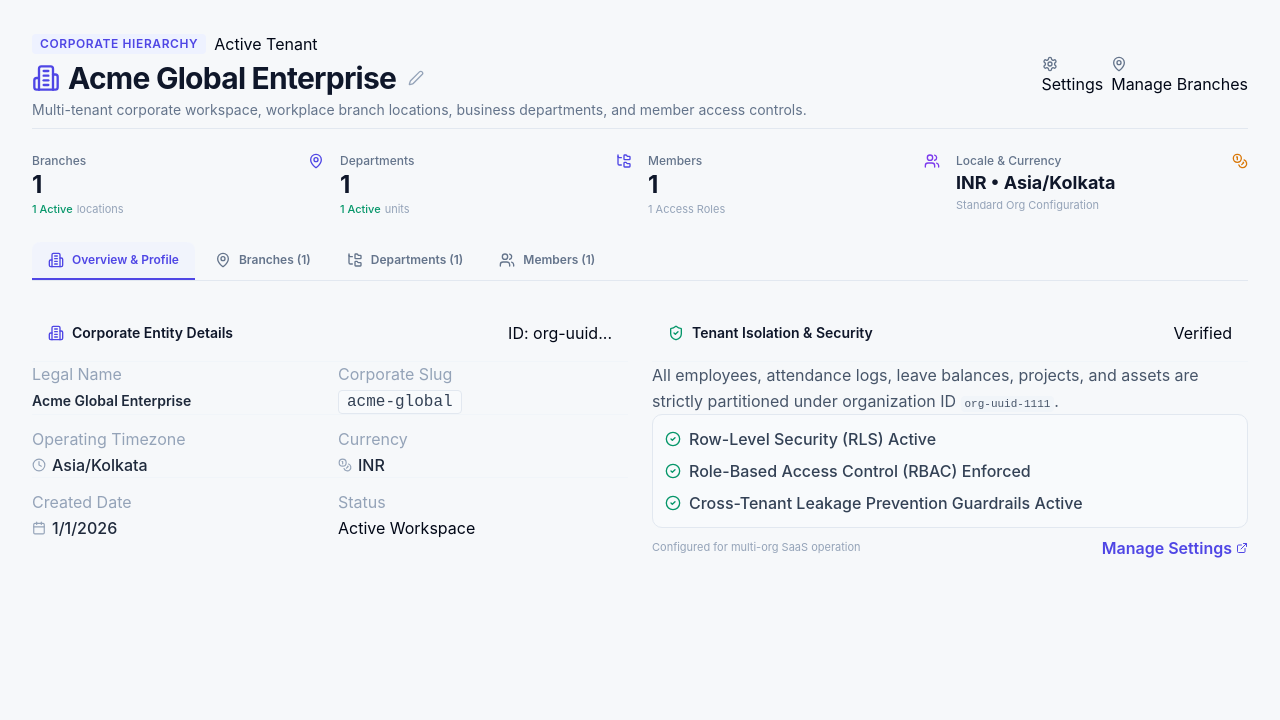
Test: OrganizationPage Component › allows switching tabs to Branches, Departments, and Members
Expected: the text "Acme Global Enterprise" below "Active Tenant" is shown, [68,60,396,96]
Note: Switch to Branches Tab
Click the button "Branches (1)". click: click(263, 260)
box: [199,242,327,280]
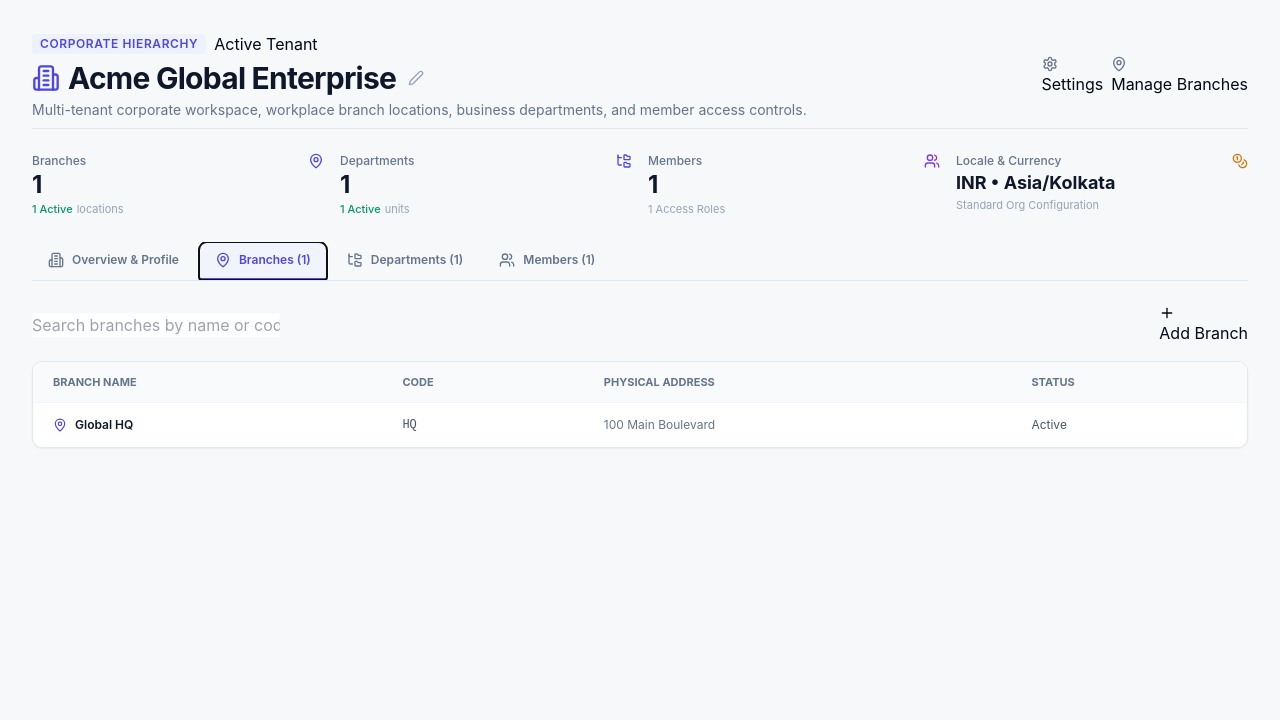
Now the column heading "Branch Name" is shown, box [33,362,382,402]
Now the text "HQ" is shown, box [382,402,584,446]
Now the text "Global HQ" is shown, box [75,416,133,432]
Note: Switch to Departments Tab
Click the button "Departments (1)". click: click(405, 260)
box: [331,242,479,280]
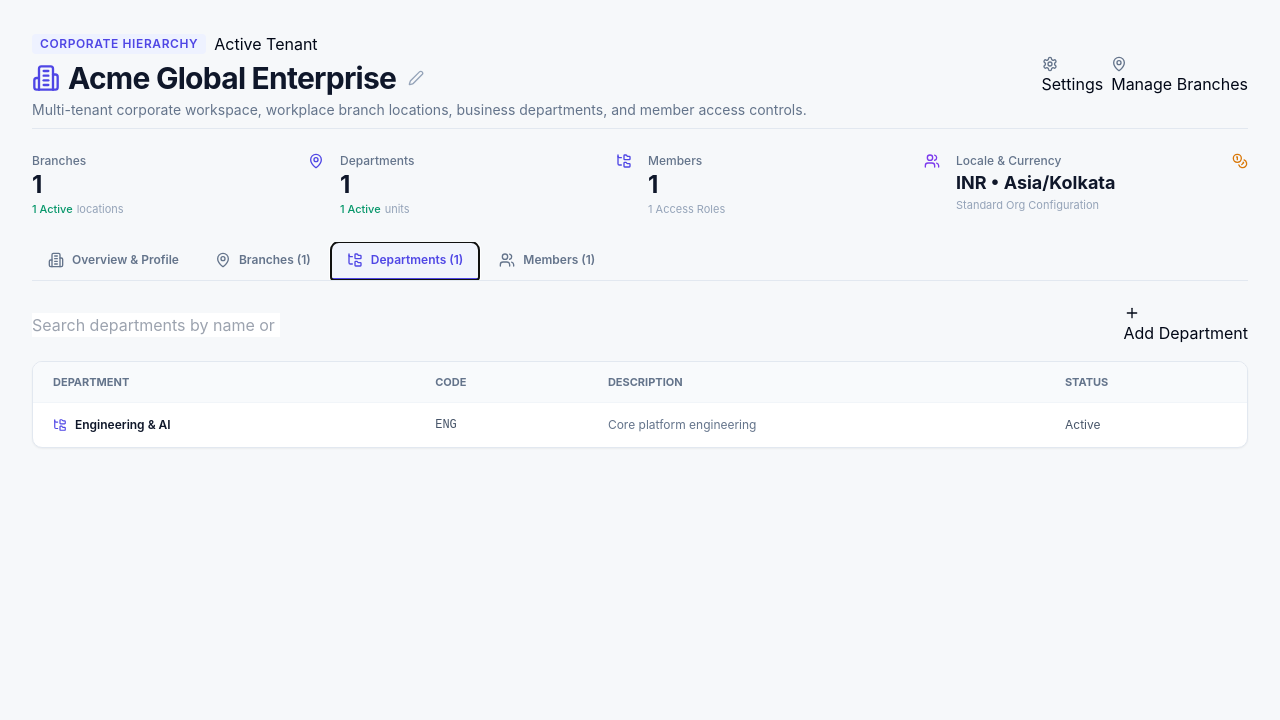
Now the text "Engineering & AI" is shown, box [75,416,171,432]
Now the text "ENG" is shown, box [415,402,588,446]
Note: Switch to Members Tab
Click the button "Members (1)". click: click(547, 260)
box: [483,242,611,280]
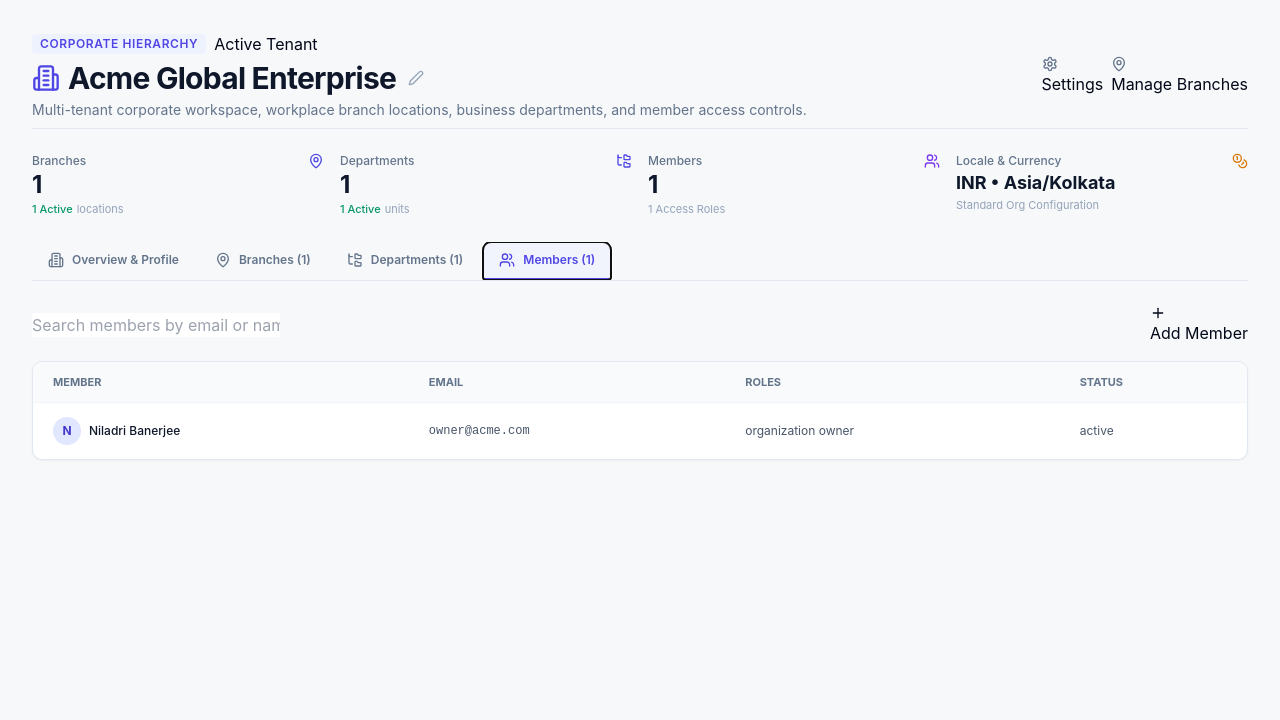
Now the text "Niladri Banerjee" is shown, box [89,422,180,438]
Now the text "owner@acme.com" is shown, box [409,402,725,458]
